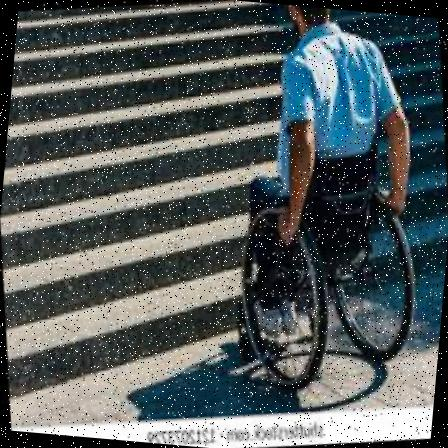wheel: (183, 0, 447, 404)
